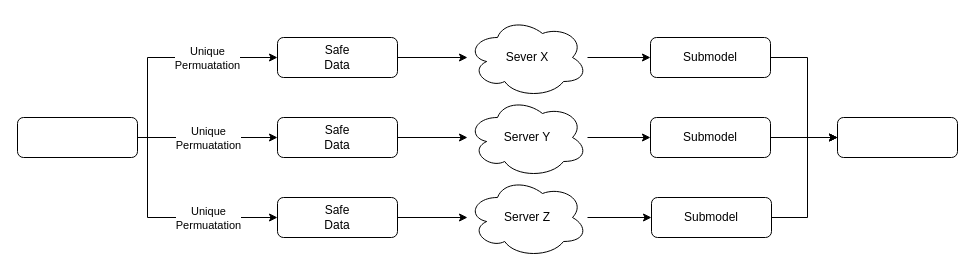
Some shapes in this 975 by 275 pixel diagram are drawn without their labels. The box of each missing label's shape, as (x1, y1, x2, y2) in pixels:
Data: (16, 116, 138, 158)
Ensemble Model: (836, 116, 958, 158)
